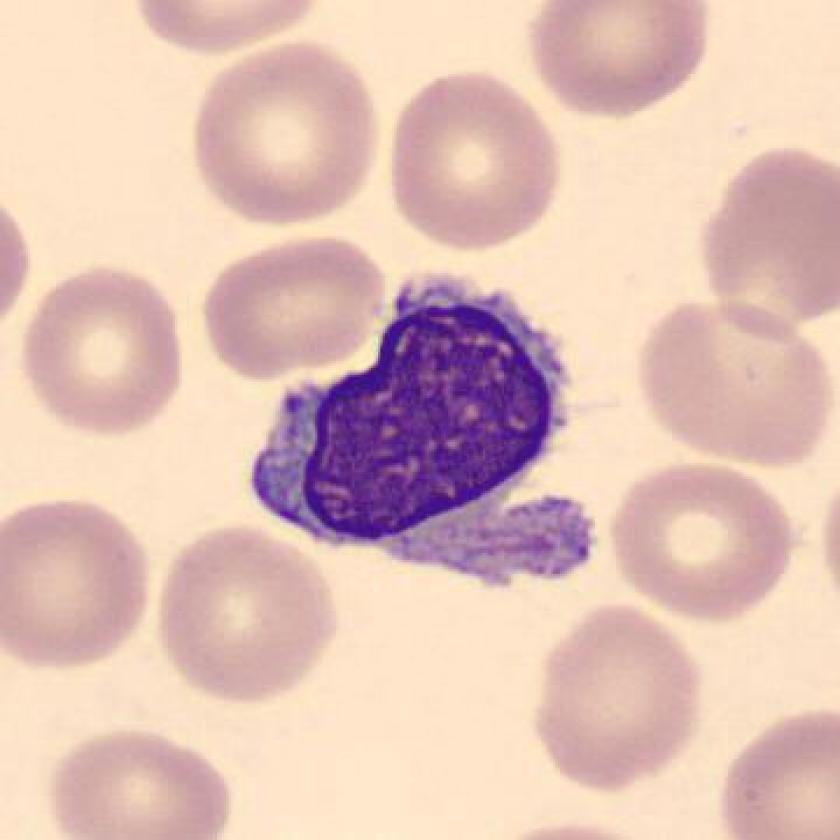lymphocyte: (244, 265, 612, 603)
